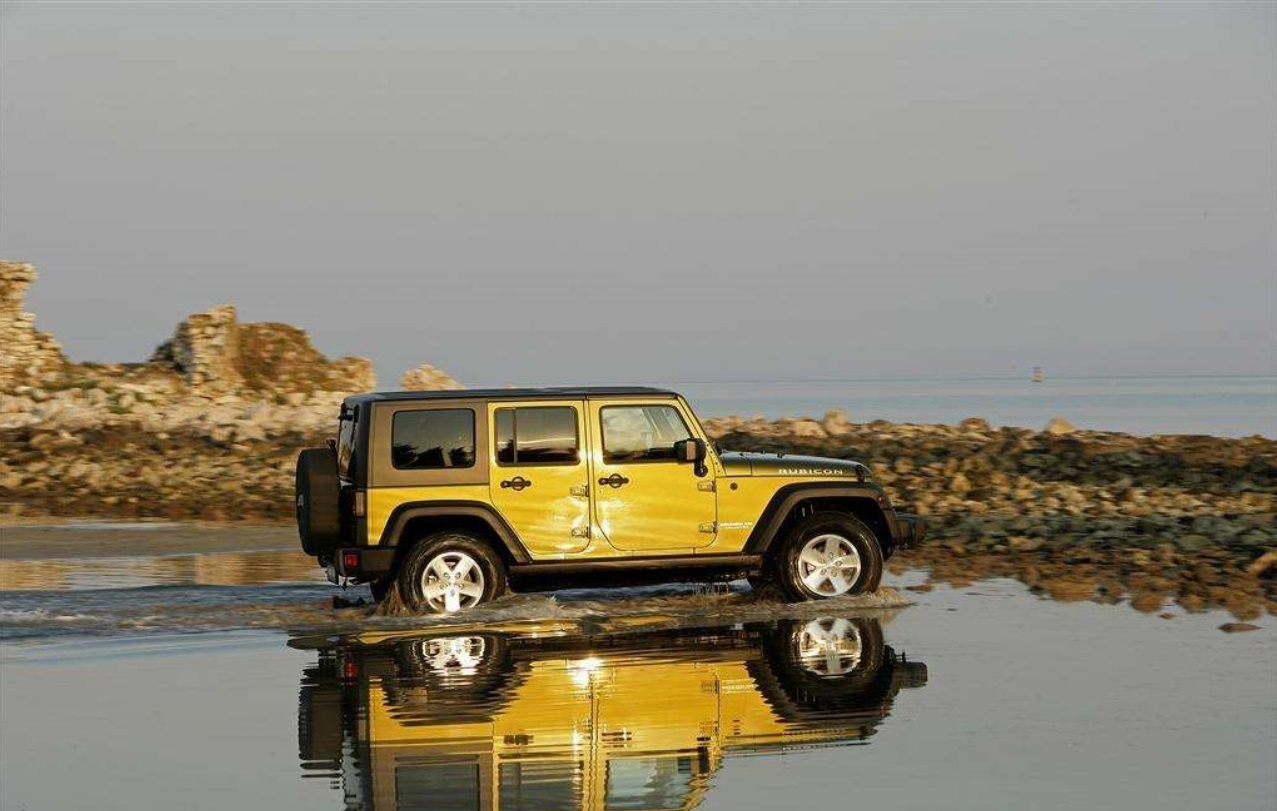jeep: (290, 369, 889, 631)
